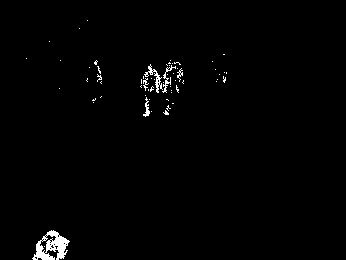person: (160, 57, 186, 115), (139, 63, 161, 118)
